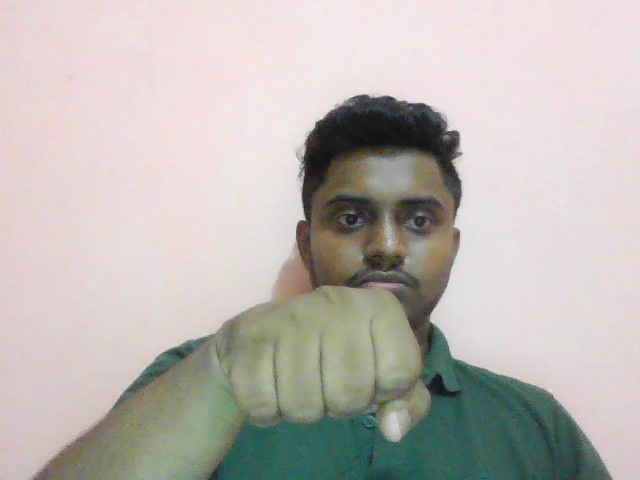Yes: (207, 277, 455, 445)
